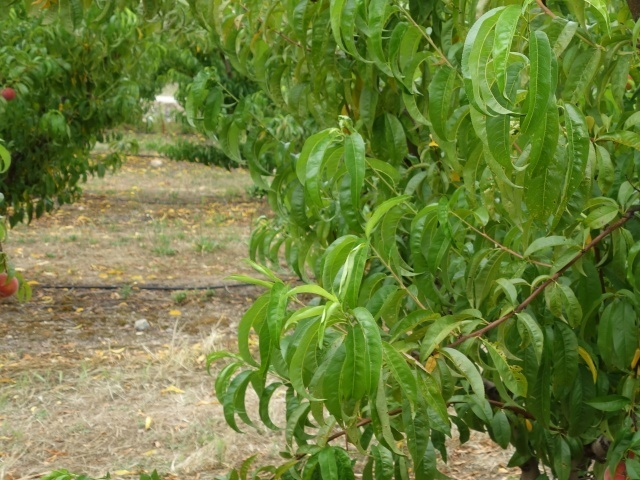peach: (602, 454, 634, 480), (1, 271, 22, 299)
